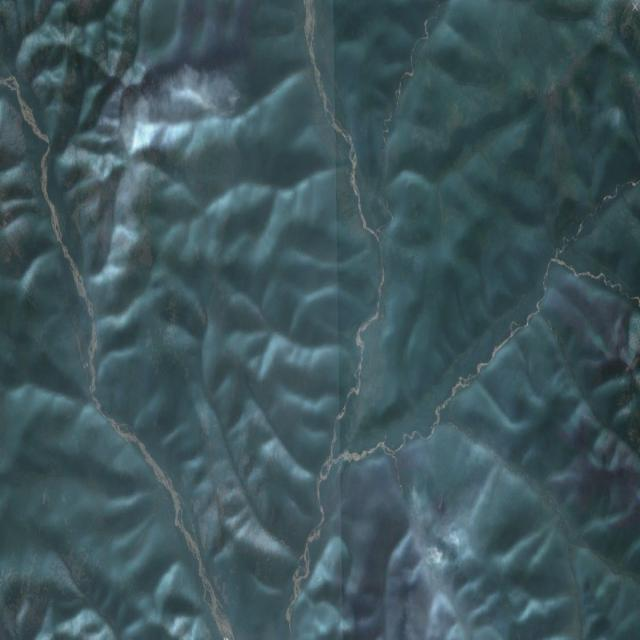fire: (324, 472, 461, 556), (208, 79, 248, 121)
